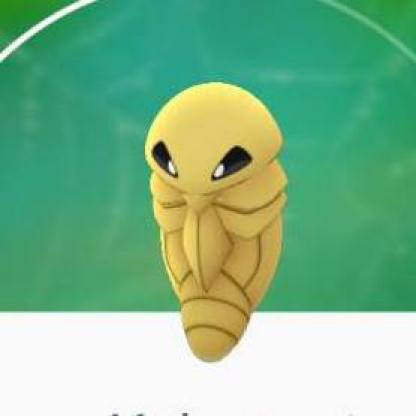Kakuna: (135, 73, 284, 362)
